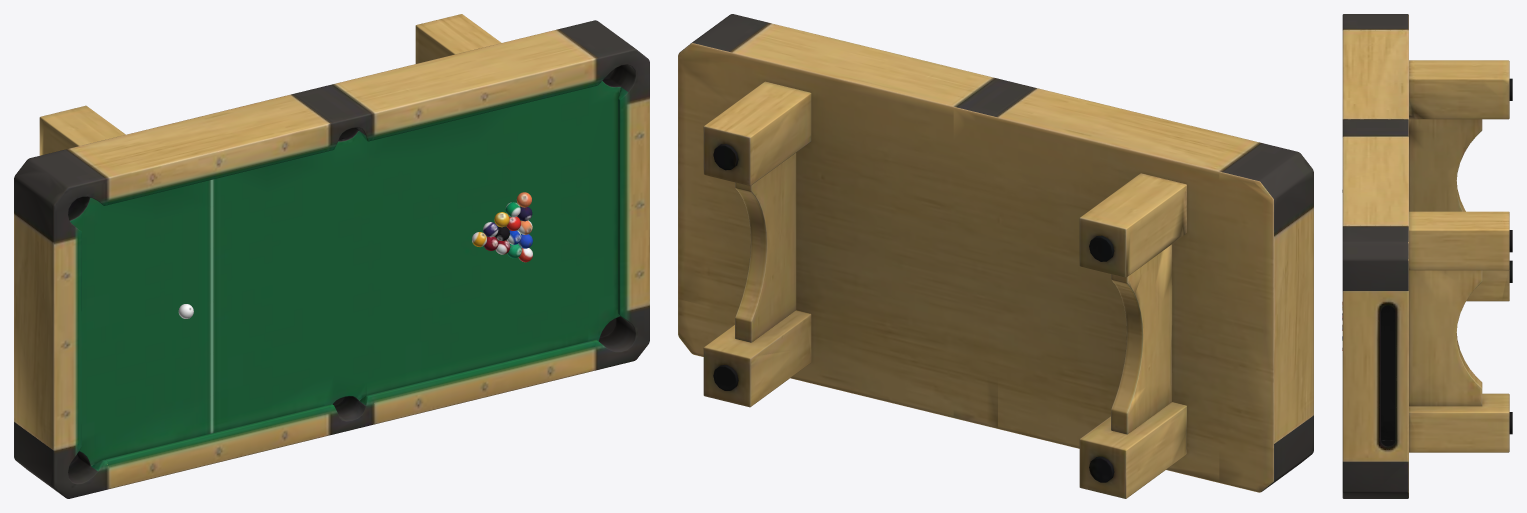
The model's file is pool-table.glb.
3 views of the same model, side by side, from view 1: azimuth 30°, elevation 25°; view 2: azimuth 150°, elevation 25°; view 3: azimuth 270°, elevation 25° (orthographic). The views are drawn at different scales.
Visible parts, largest first — view 1: Object_3, Object_2; view 2: Object_3, Object_2; view 3: Object_3, Object_2.
Part boxes in pixels (x1,y1,x2,y2): Object_3: (14,14,649,489); Object_2: (14,20,649,498); Object_3: (678,23,1313,498); Object_2: (678,14,1313,492); Object_3: (1342,30,1512,461); Object_2: (1342,14,1408,498).
Bounding box in the file's own units: 1.6 × 0.8 × 0.481.
Materials: 1 (1 with a texture image).
